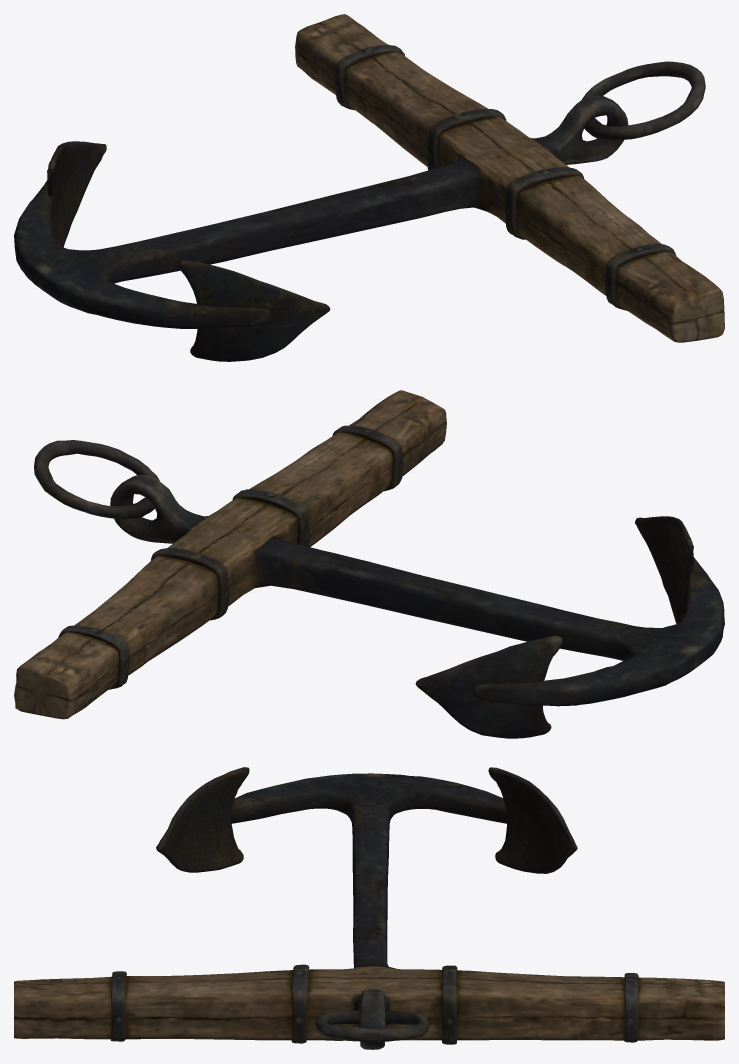
The model's file is anchor.glb.
3 renders of one model, top to bottom at view 1: azimuth 30°, elevation 25°; view 2: azimuth 150°, elevation 25°; view 3: azimuth 270°, elevation 25°, orthographic. The views are drawn at different scales.
Parts seen in each view (by area): view 1: geometry_0; view 2: geometry_0; view 3: geometry_0.
Part boxes in pixels (bbox=[...]): geometry_0: bbox=[14, 14, 724, 361]; geometry_0: bbox=[14, 390, 724, 738]; geometry_0: bbox=[14, 767, 724, 1049].
Size of the model in its own units: 1 by 0.147 by 1.
1 material, 1 textured.
